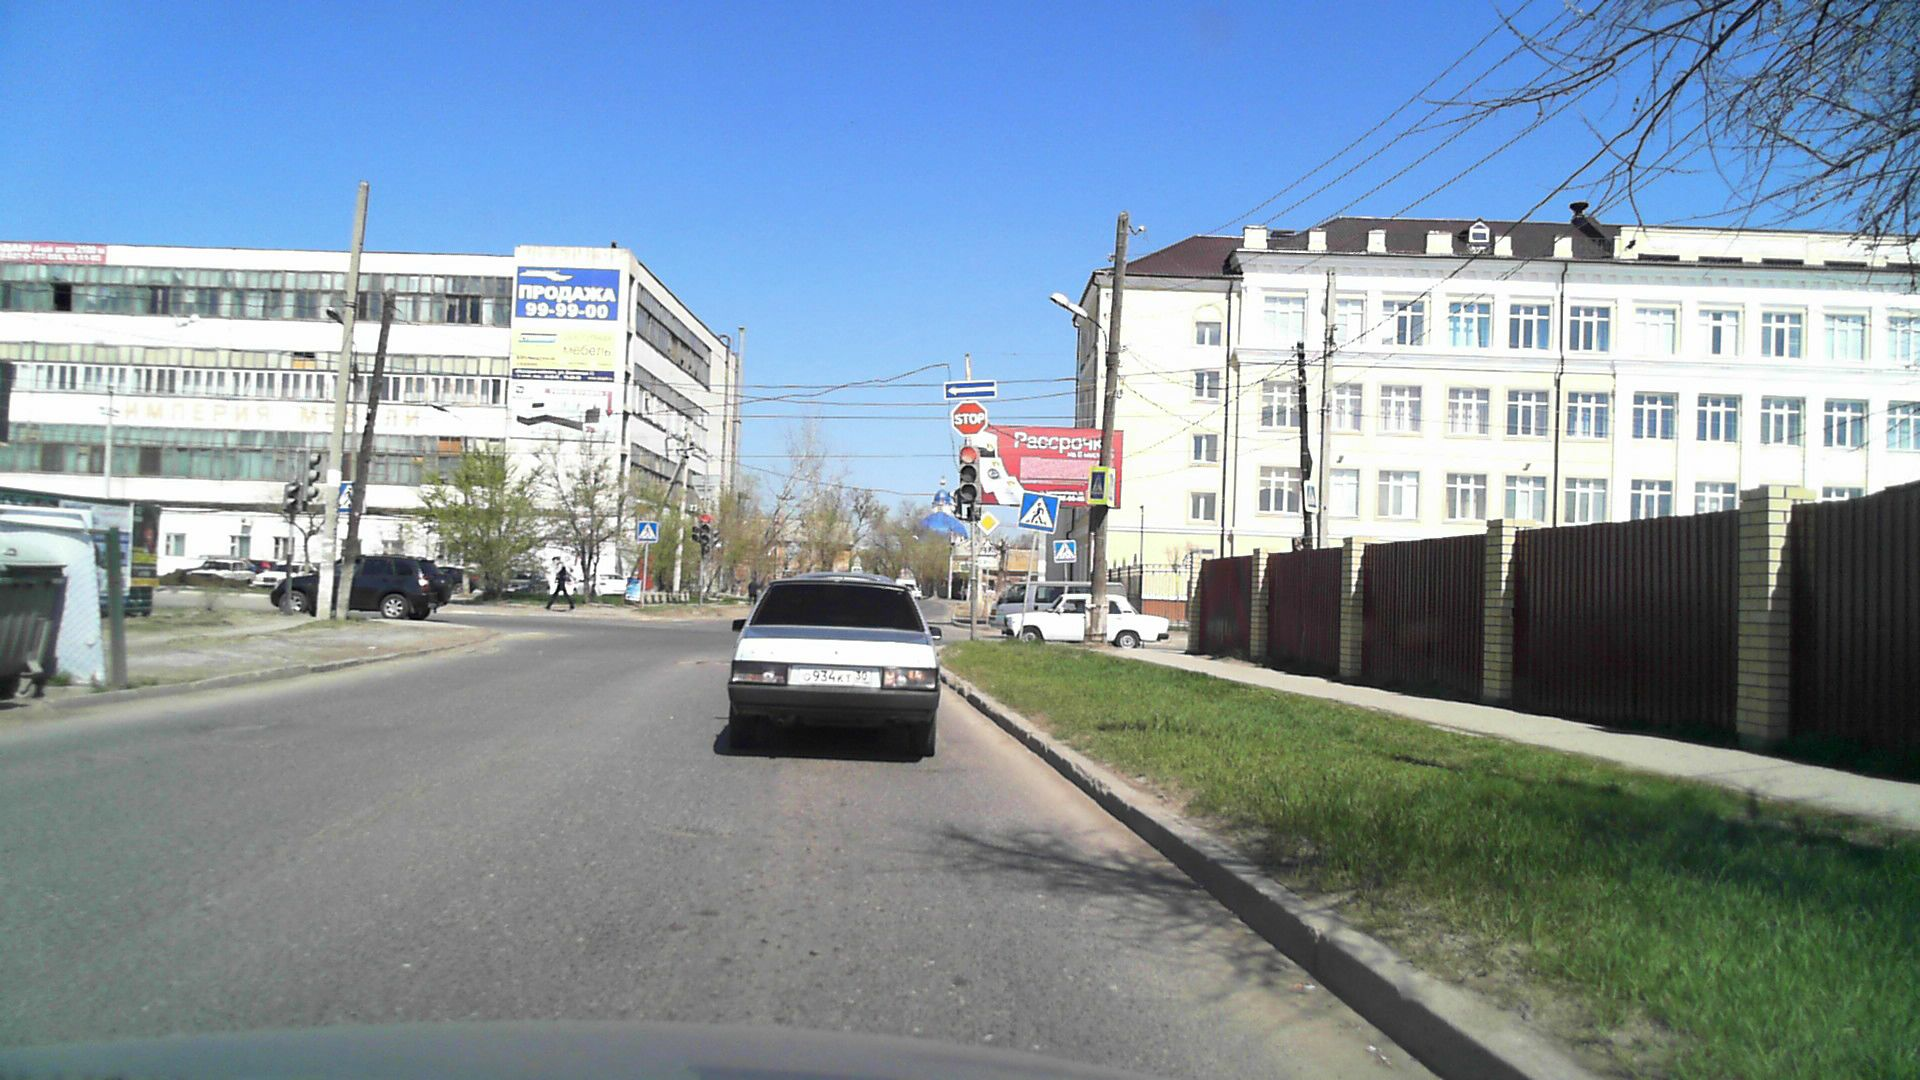One-Way Traffic: (943, 381, 996, 398)
Pedestrian Crossing: (1021, 492, 1058, 530)
